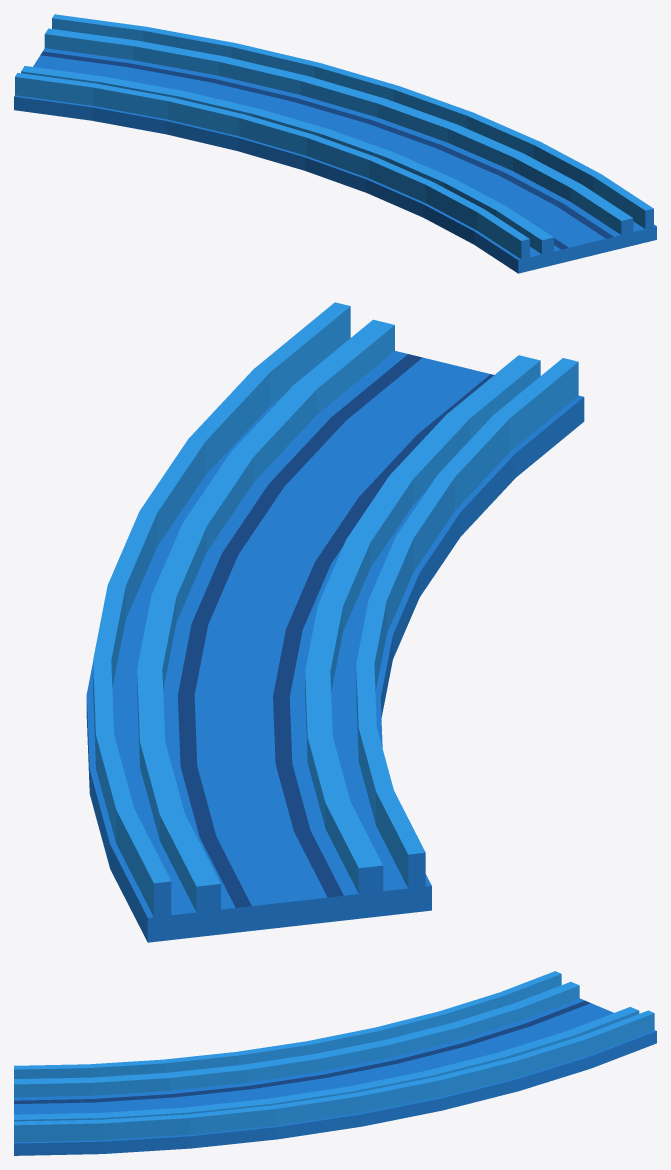
File: Track_Curve_Left_45.fbx
3 renders of one model, top to bottom at view 1: azimuth 30°, elevation 25°; view 2: azimuth 150°, elevation 25°; view 3: azimuth 270°, elevation 25°, orthographic. The views are drawn at different scales.
Visible parts, largest first — view 1: Molded blue rail; view 2: Molded blue rail; view 3: Molded blue rail.
Part boxes in pixels (<box>): Molded blue rail: <box>14,14,656,273</box>; Molded blue rail: <box>86,302,584,942</box>; Molded blue rail: <box>14,971,656,1155</box>.
Size of the model in its own units: 266 by 23.21 by 462.
